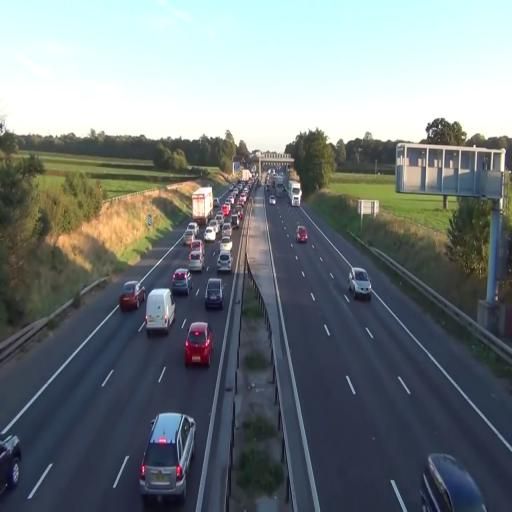vehicle: (138, 411, 196, 505), (420, 451, 487, 512), (145, 288, 175, 336), (0, 427, 21, 495), (183, 322, 214, 368), (191, 185, 214, 227), (350, 267, 372, 300), (119, 282, 140, 312), (171, 266, 191, 296), (205, 278, 223, 310), (188, 240, 204, 272), (217, 246, 232, 271), (296, 226, 308, 244)
